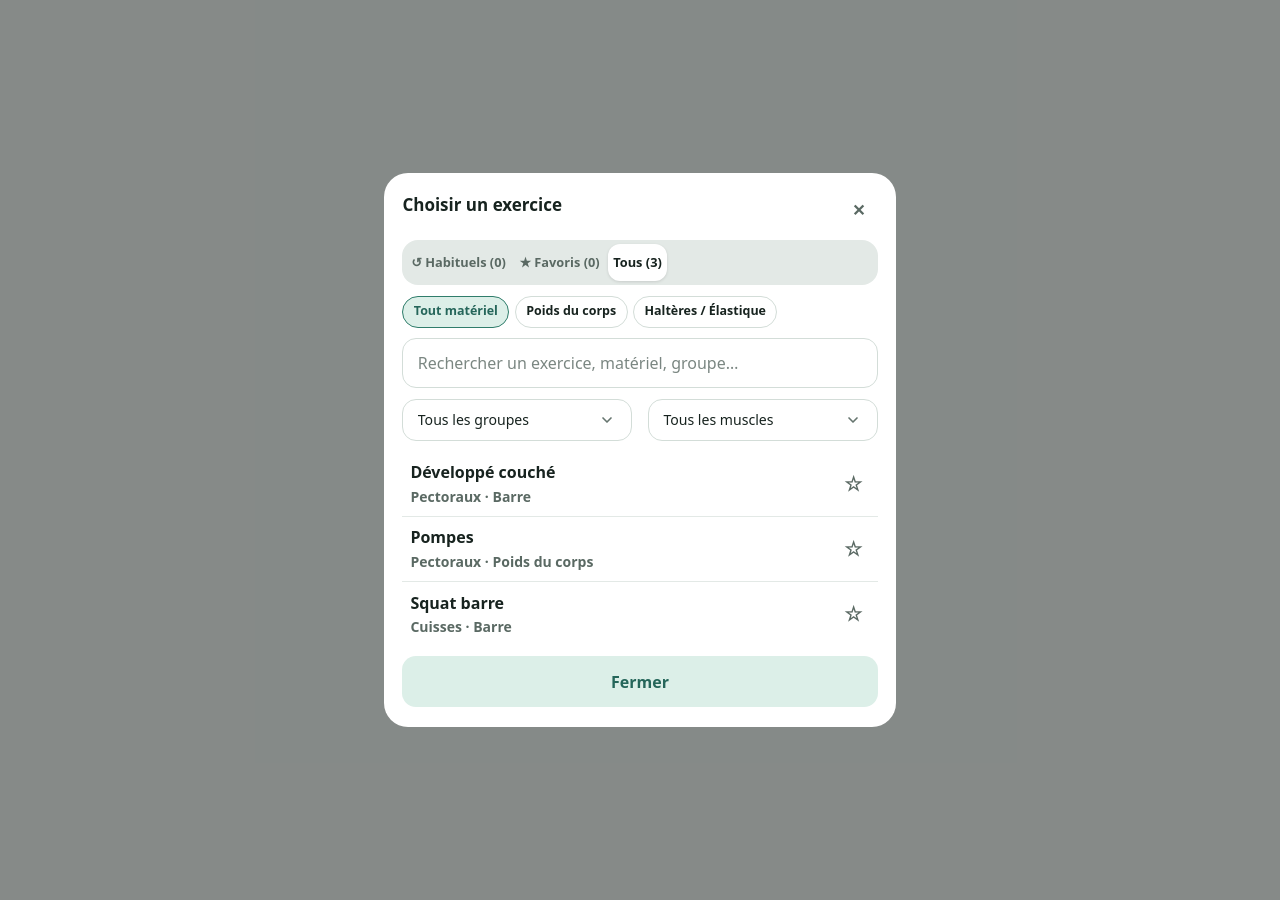
Test case: SelecteurExercice.tsx › Composant SelecteurExercice (UI & Interactions) › filtre les exercices via la recherche texte
The width and height of the screenshot is (1280, 900).
Type "squat" into the search field with placeholder "Rechercher un exercice, matériel, groupe…" at point(640, 363), box [402, 338, 878, 388]
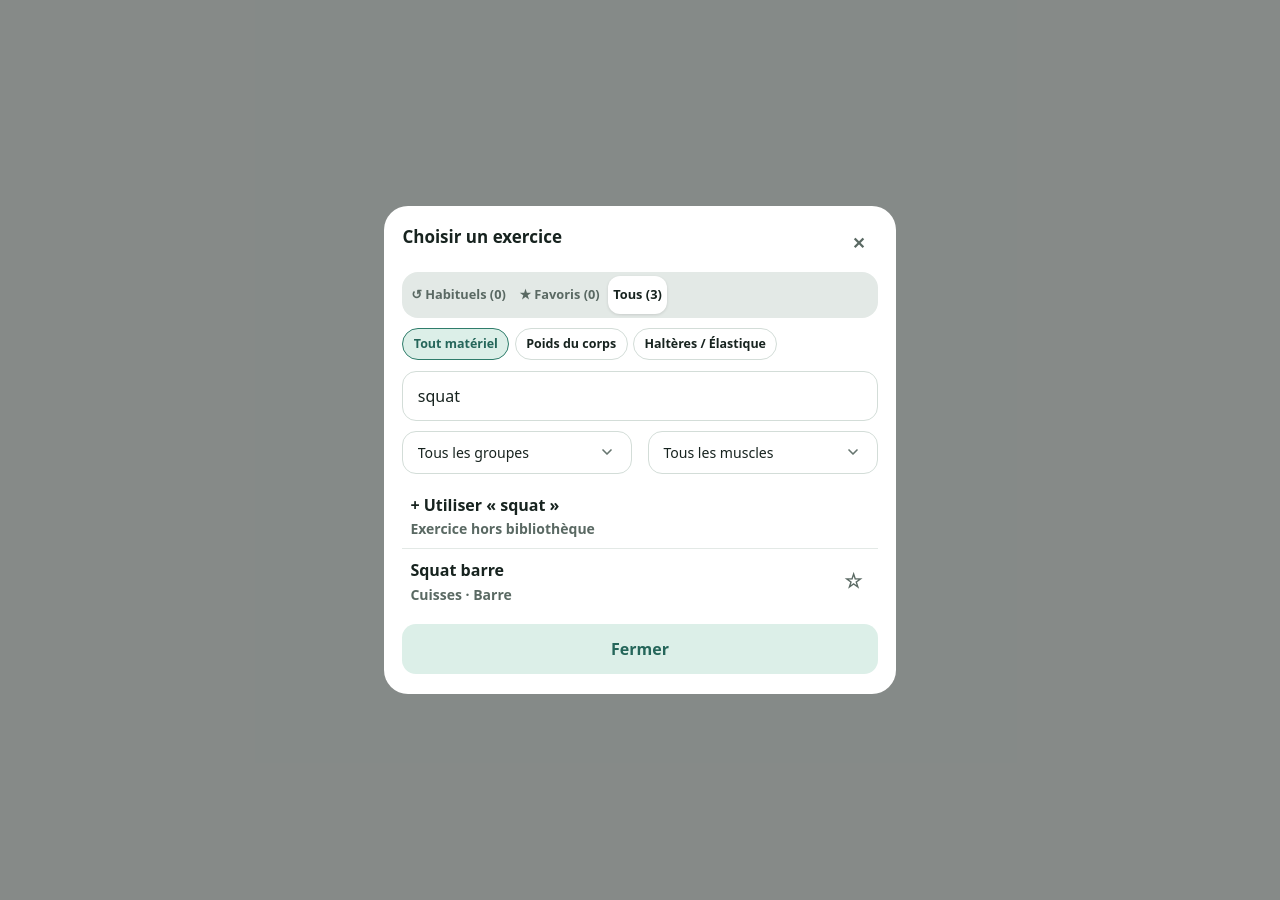
Expected: the text "Squat barre" is shown, [410, 558, 504, 582]
Now the button "Développé couché" is gone
